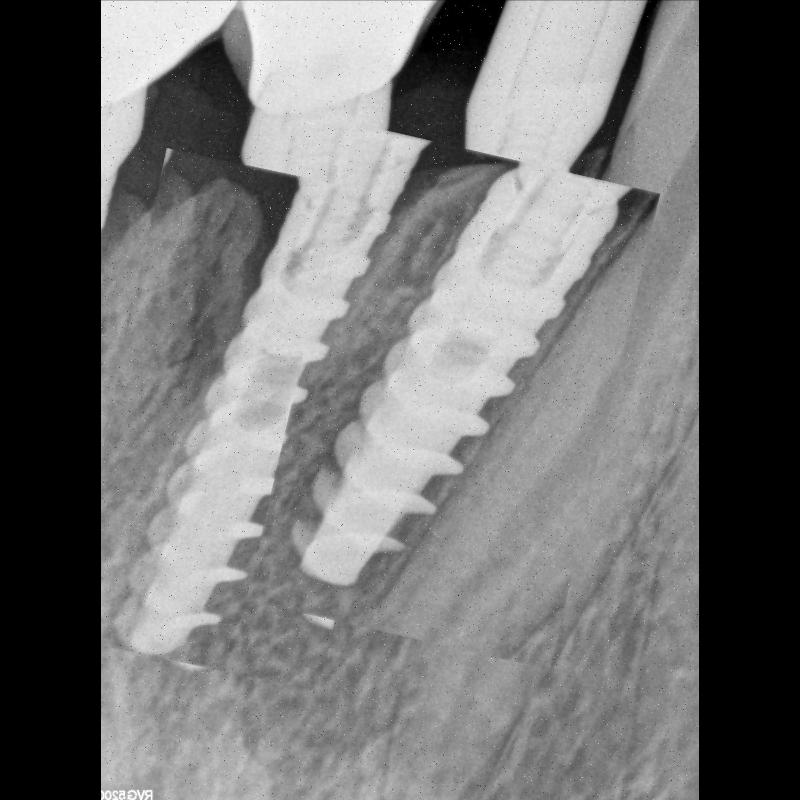ADIN: (272, 139, 634, 656), (101, 159, 399, 681)
